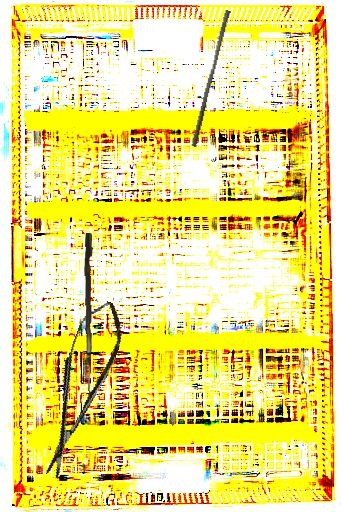Hook Surgical: (82, 232, 98, 406)
Micro Scissor: (25, 295, 134, 482)
Pusher: (191, 8, 231, 149)
